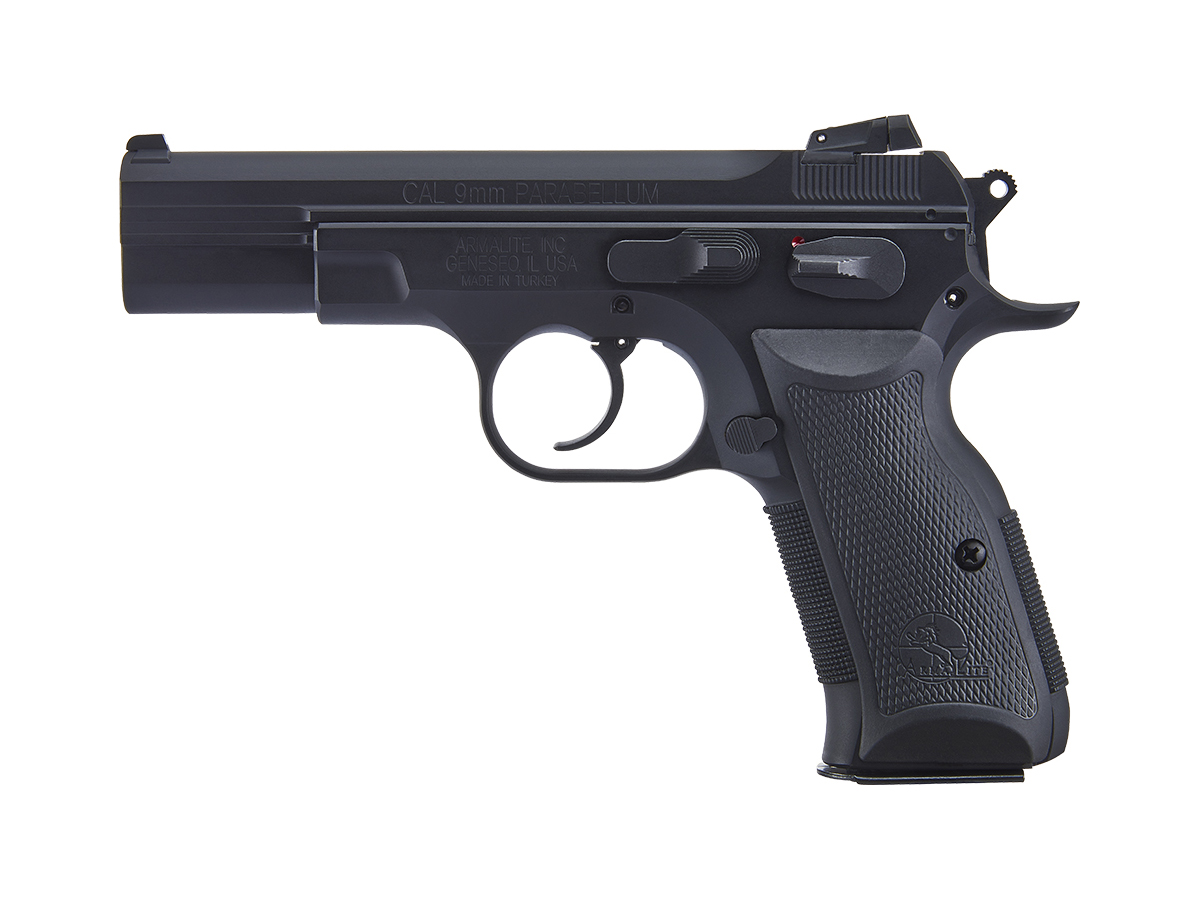Arma Real: (105, 112, 1077, 794)
